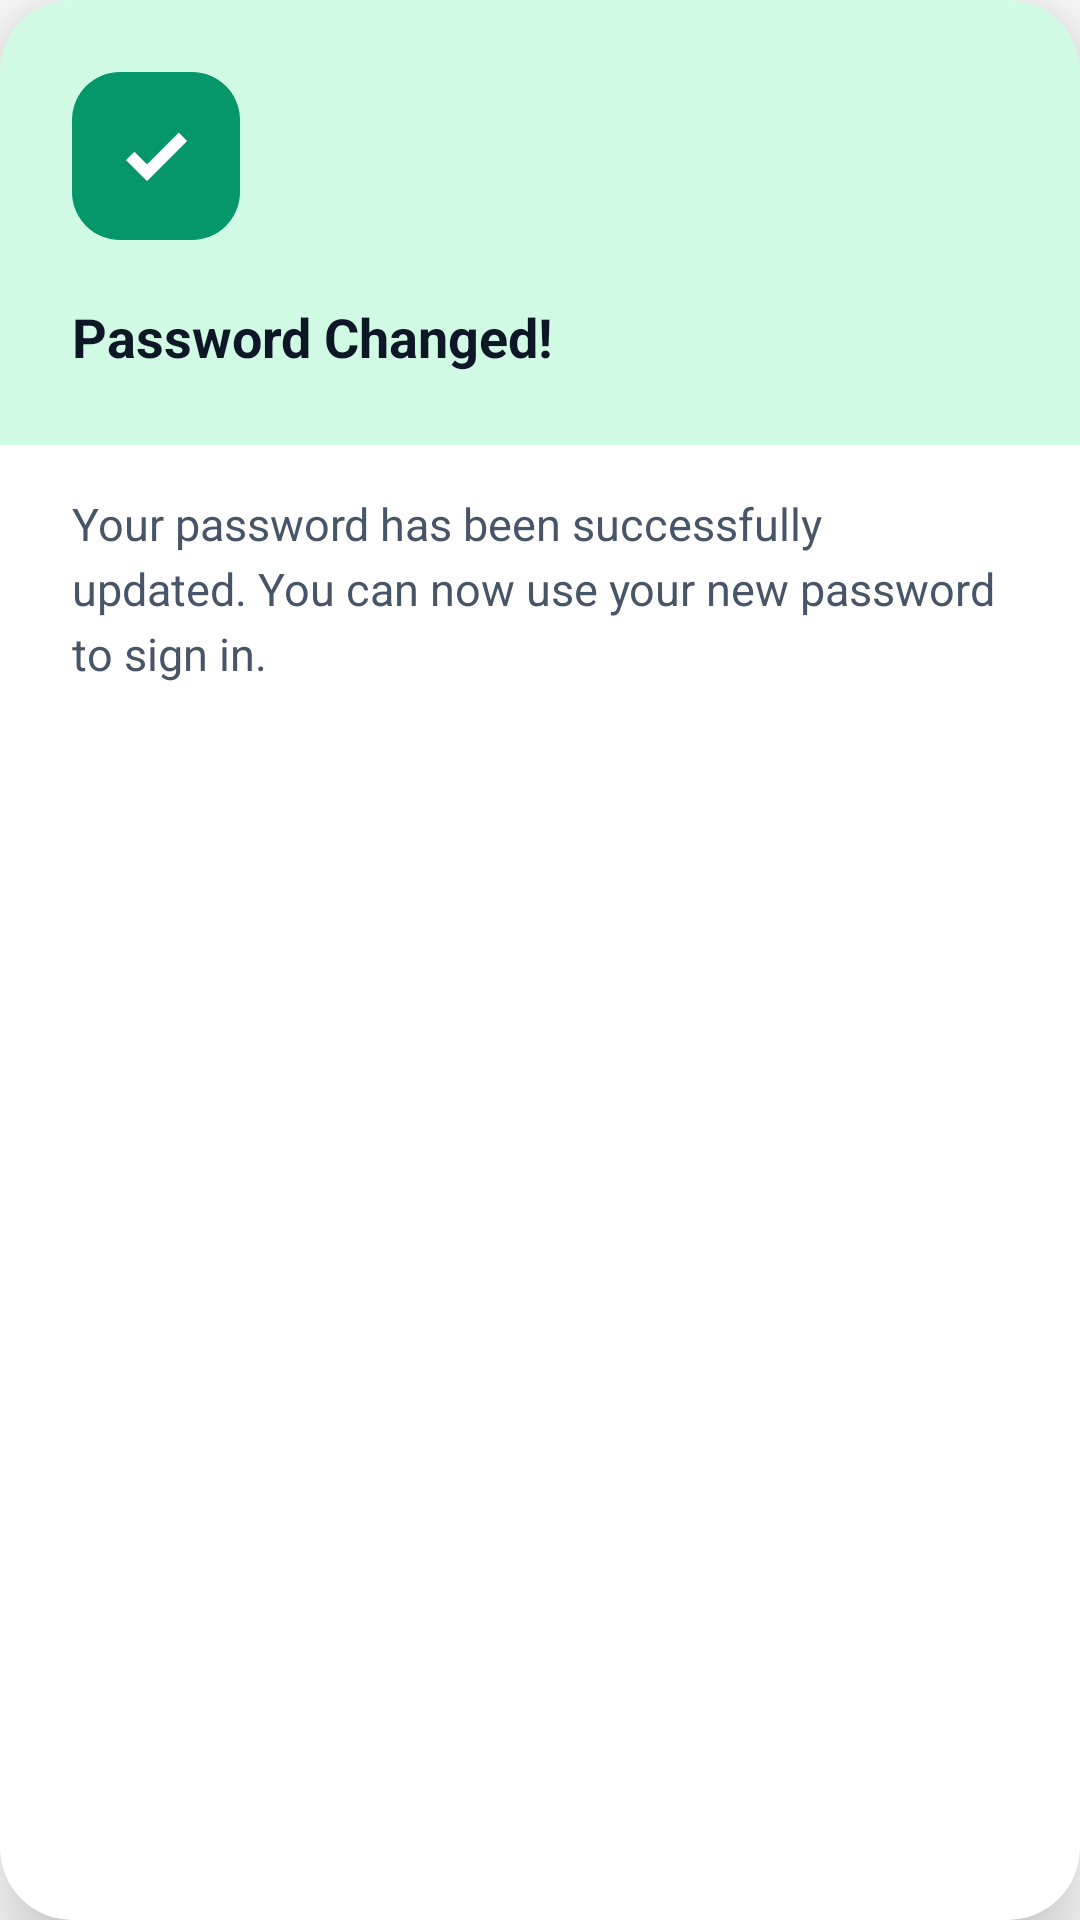

Screen size 1080×1920. Icon name, then its box in pixels as rect(x1, y1, x2, y2):
check: rect(72, 72, 240, 240)
